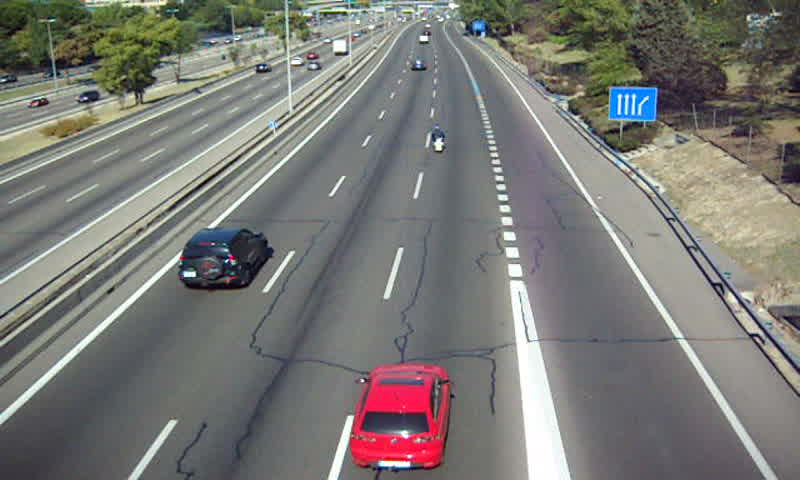car: (352, 364, 453, 471), (177, 228, 270, 289)
motorcycle: (430, 125, 446, 154)
